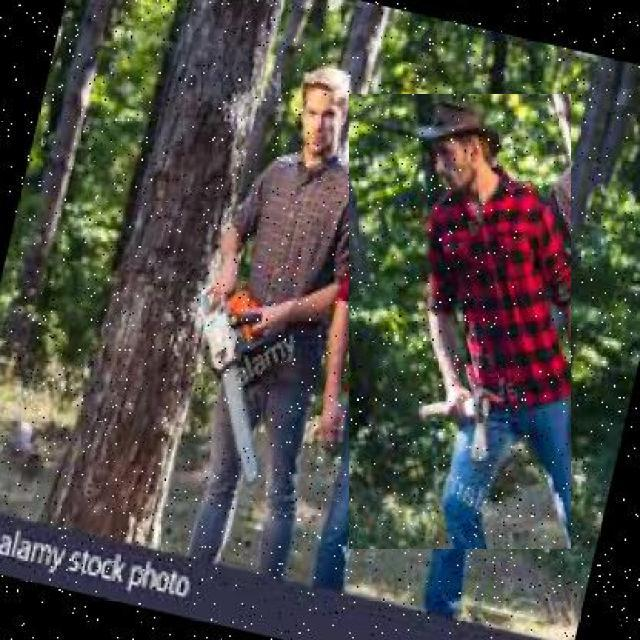poacher: (349, 94, 571, 549), (166, 63, 379, 526)
